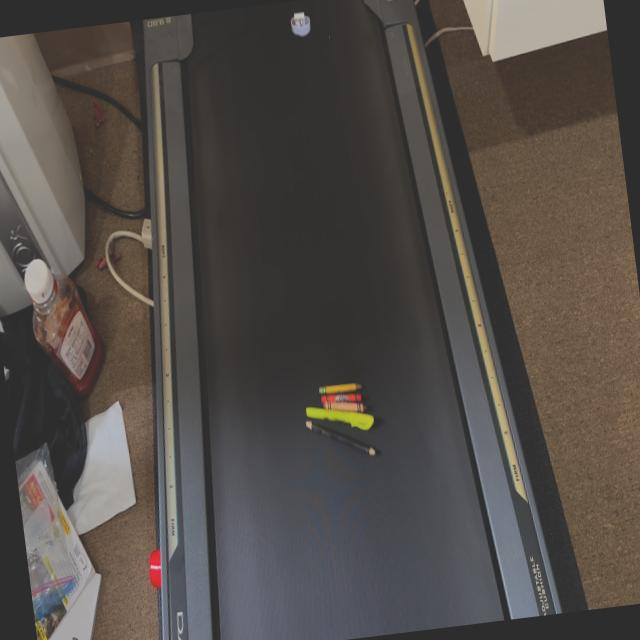Trash: (294, 372, 384, 471), (286, 8, 319, 44)
